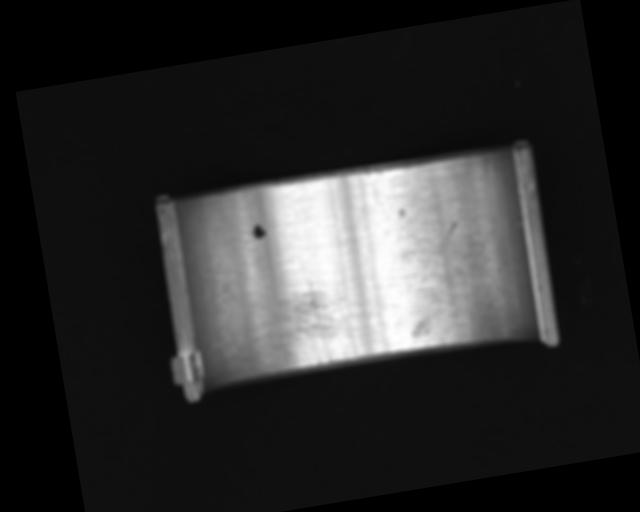blot: (251, 221, 267, 240)
bruise: (407, 313, 437, 339), (396, 206, 406, 218)
nick: (415, 221, 465, 284)
scratch: (222, 274, 360, 379)
